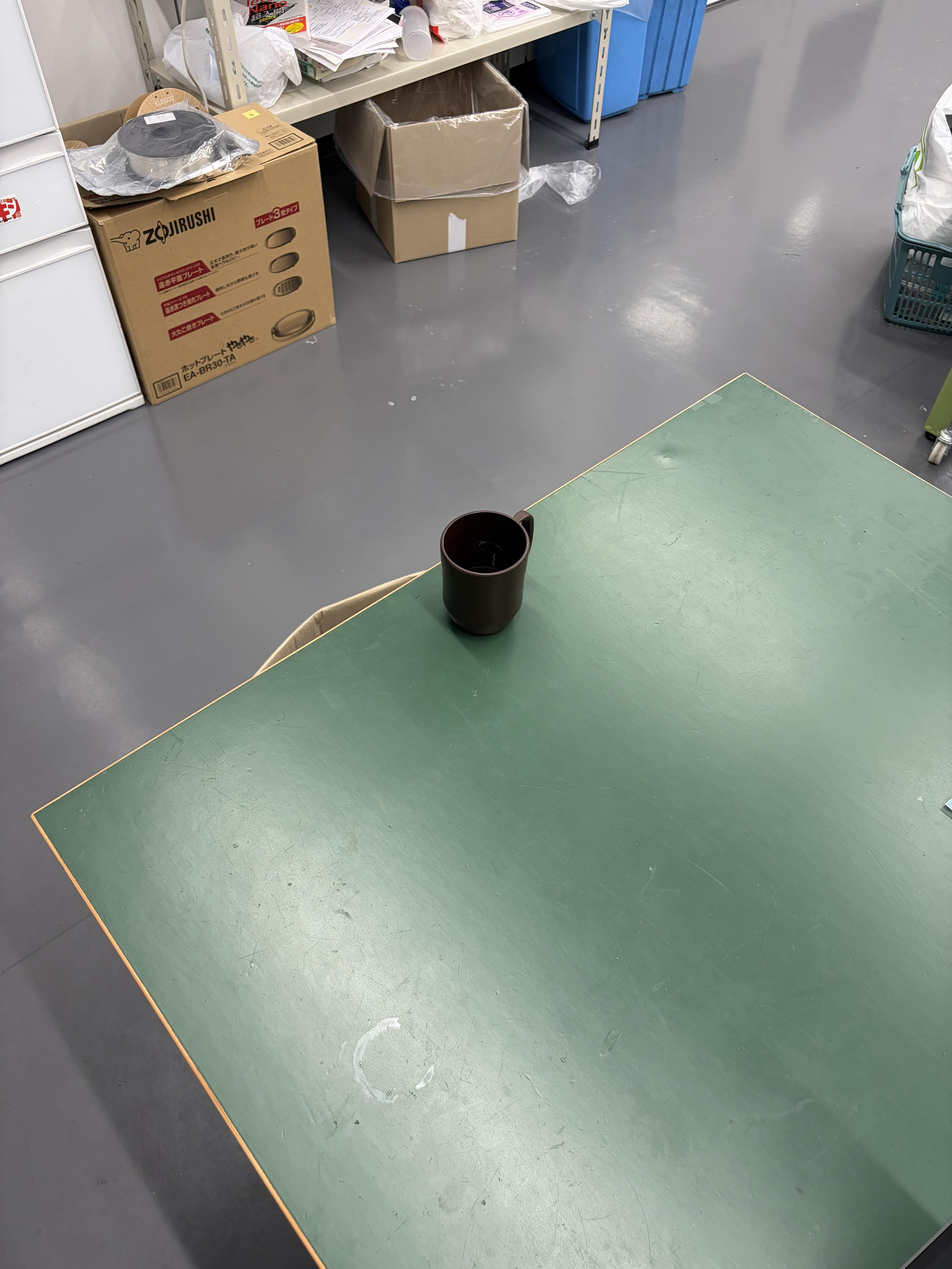mug-real100-3d100: (440, 510, 534, 635)
